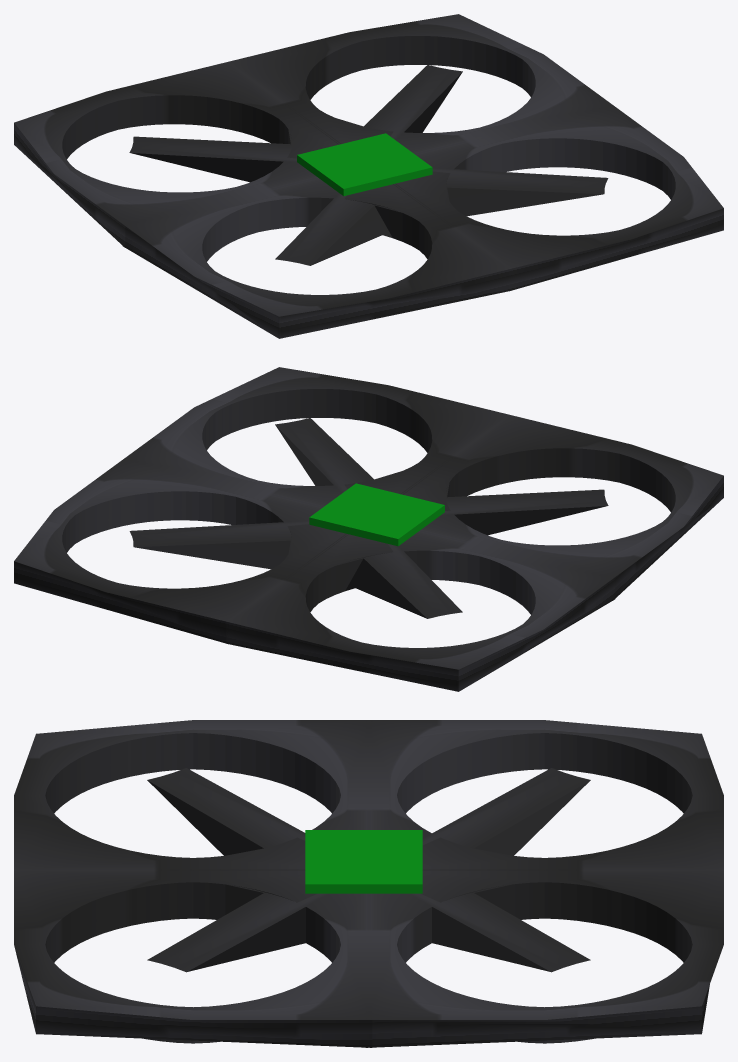
File: basic_dron.glb
3 renders of one model, top to bottom at view 1: azimuth 30°, elevation 25°; view 2: azimuth 150°, elevation 25°; view 3: azimuth 270°, elevation 25°, orthographic. The views are drawn at different scales.
Visible parts, largest first — view 1: Cube, Cube.002; view 2: Cube, Cube.002; view 3: Cube, Cube.002.
Part boxes in pixels (x1,y1,x2,y2): Cube: (14,14,723,338); Cube.002: (297,133,432,196); Cube: (14,367,723,691); Cube.002: (309,483,444,546); Cube: (14,720,723,1047); Cube.002: (305,830,422,893).
Size of what is drawn, in the model's own units: 18.42 by 1.3 by 18.42.
2 materials, 1 textured.
